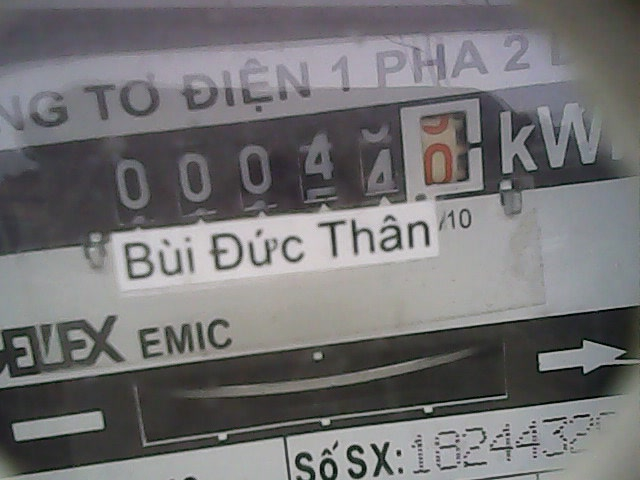phy_plate: (88, 90, 494, 229)
